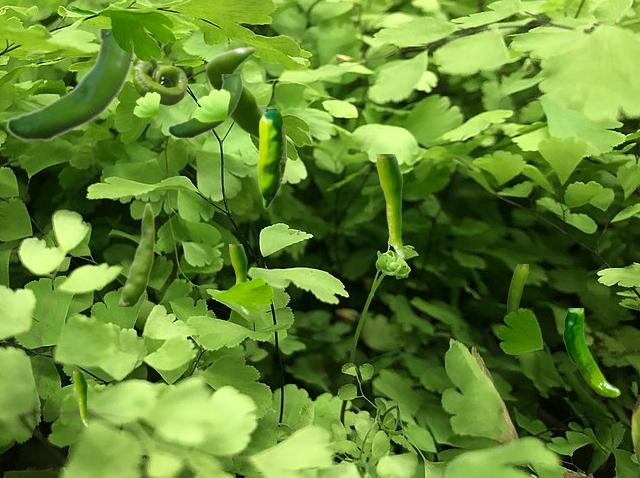green_chili: (5, 29, 133, 141), (205, 46, 271, 139), (563, 308, 619, 396), (167, 74, 241, 138), (119, 202, 154, 305), (376, 154, 403, 257), (257, 109, 285, 207), (131, 57, 186, 104), (507, 264, 527, 357), (229, 244, 247, 313), (73, 371, 87, 426)
